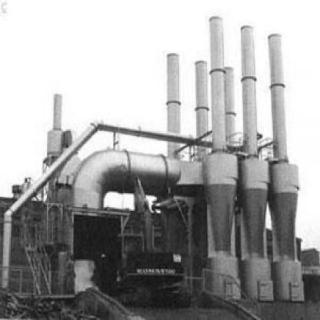Fire: (68, 252, 99, 296)
